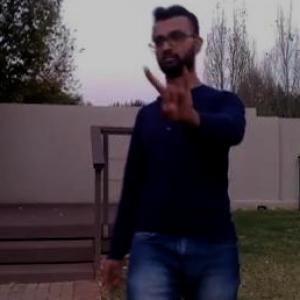takeoff-hand: (143, 50, 200, 126)
